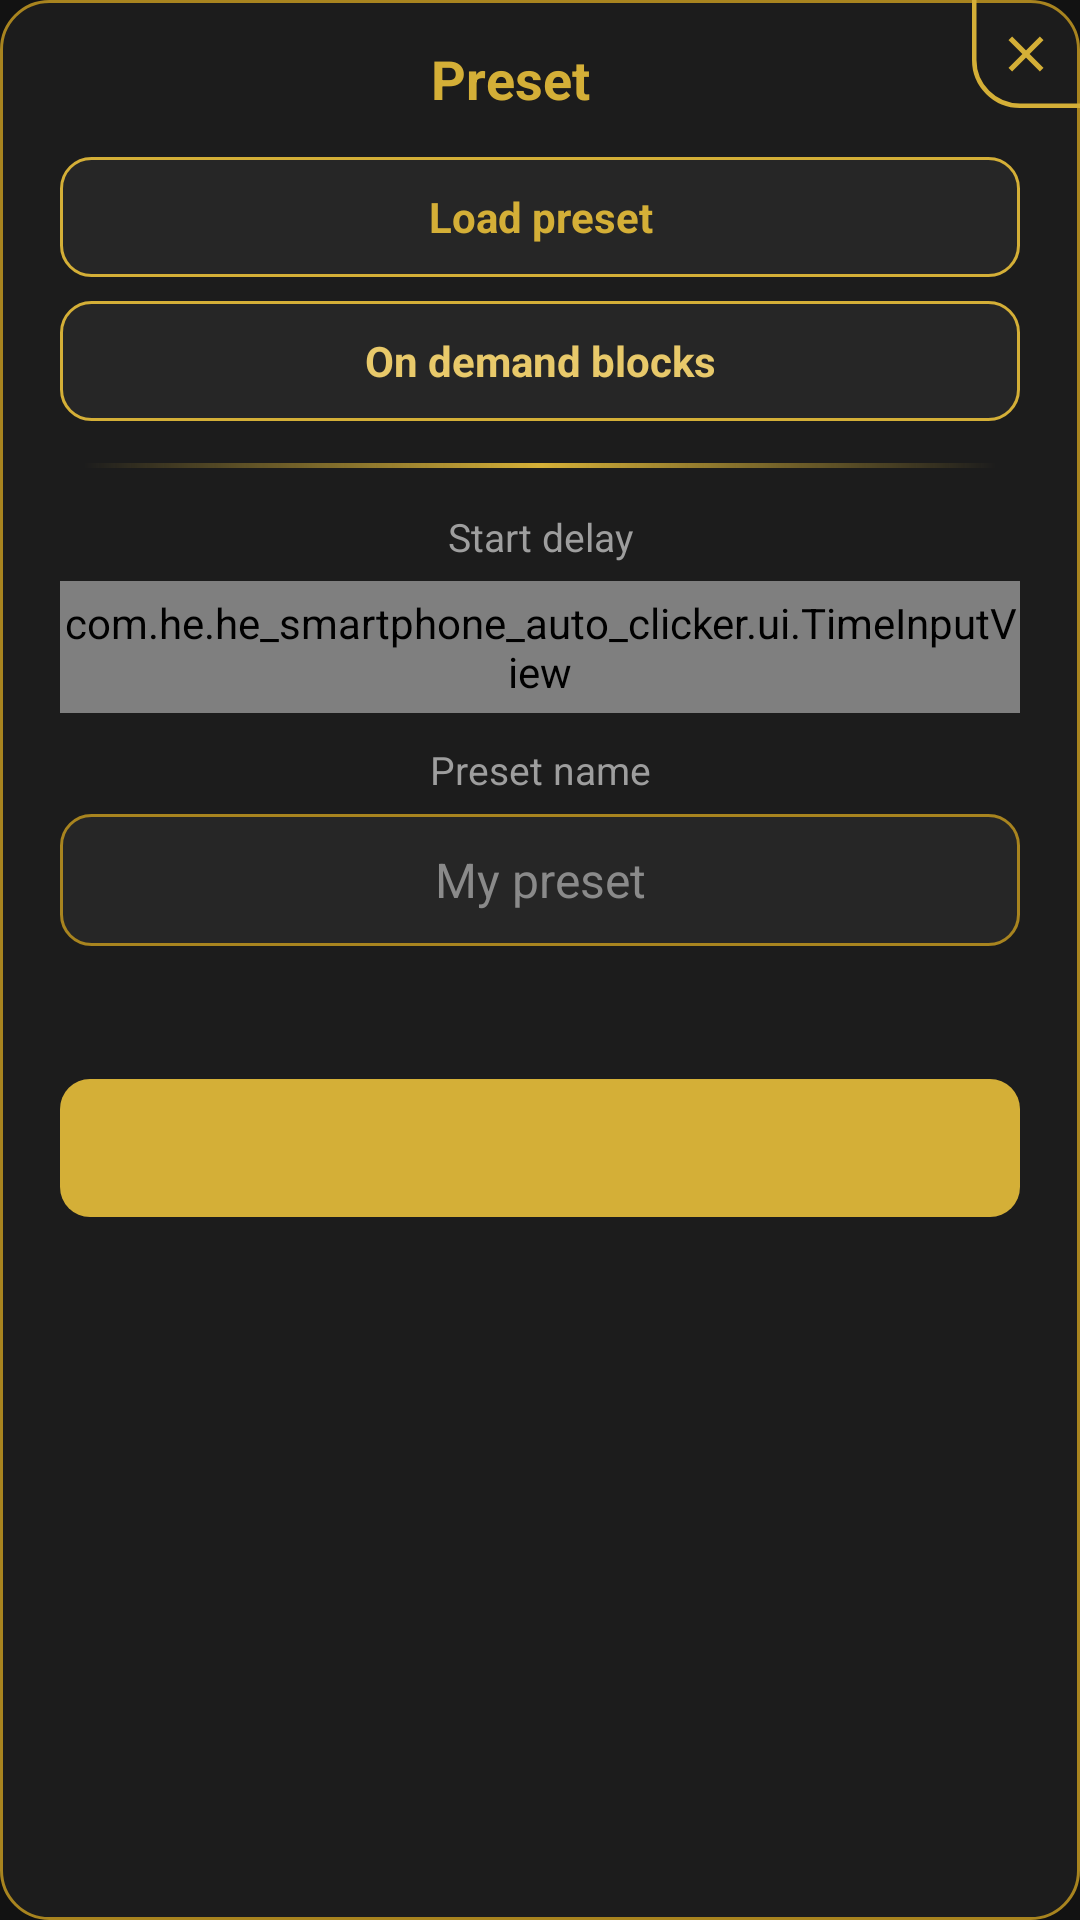

Named icons in this screenshot (1080×1920) and their bounding boxes, (x1, y1, x2, y2):
Close: (972, 0, 1080, 108)
